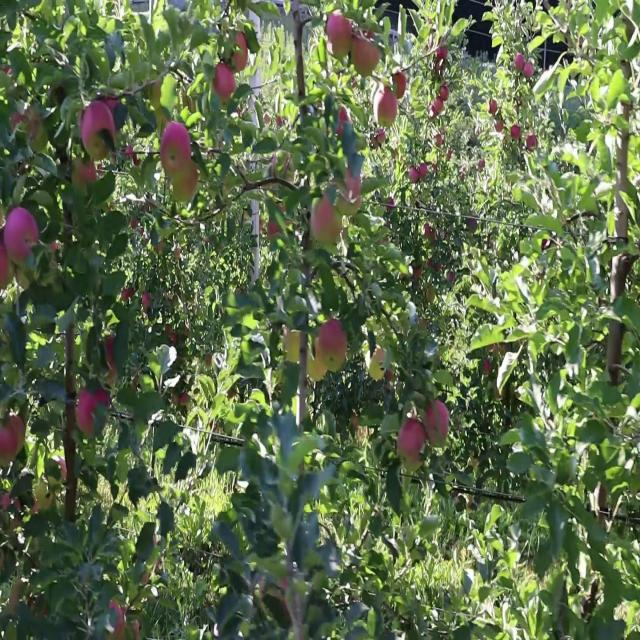apple: (80, 99, 117, 162), (4, 206, 40, 263), (160, 120, 192, 176), (312, 199, 343, 247), (80, 391, 112, 434), (320, 319, 348, 368), (0, 412, 27, 460), (352, 35, 381, 78), (328, 14, 354, 60), (172, 163, 200, 204), (400, 419, 427, 460), (424, 405, 450, 446), (212, 63, 236, 105), (376, 85, 399, 128), (76, 391, 96, 439), (264, 206, 290, 240), (308, 341, 328, 384), (72, 156, 97, 188), (12, 106, 39, 135), (372, 348, 393, 382), (284, 327, 303, 363), (344, 170, 363, 204), (232, 35, 249, 71), (108, 604, 126, 638), (372, 348, 392, 377), (32, 490, 55, 512), (432, 42, 449, 71), (76, 163, 98, 185), (392, 71, 408, 100), (336, 106, 350, 139), (376, 355, 393, 382), (272, 156, 290, 181), (108, 334, 117, 380), (8, 583, 20, 617), (92, 391, 112, 411), (12, 497, 24, 530), (0, 248, 9, 290), (101, 99, 120, 117), (280, 583, 289, 615), (412, 263, 426, 281), (432, 99, 444, 119), (172, 391, 188, 405), (4, 247, 10, 283), (424, 227, 436, 244), (408, 170, 420, 185), (524, 63, 535, 78), (144, 291, 152, 311), (440, 85, 450, 101), (124, 291, 135, 304), (168, 334, 178, 348), (420, 163, 428, 180), (516, 56, 525, 71), (512, 127, 521, 142), (204, 355, 213, 370), (528, 135, 536, 151), (496, 120, 504, 135), (484, 362, 492, 377), (4, 497, 12, 512), (492, 99, 499, 114), (136, 618, 141, 639)
